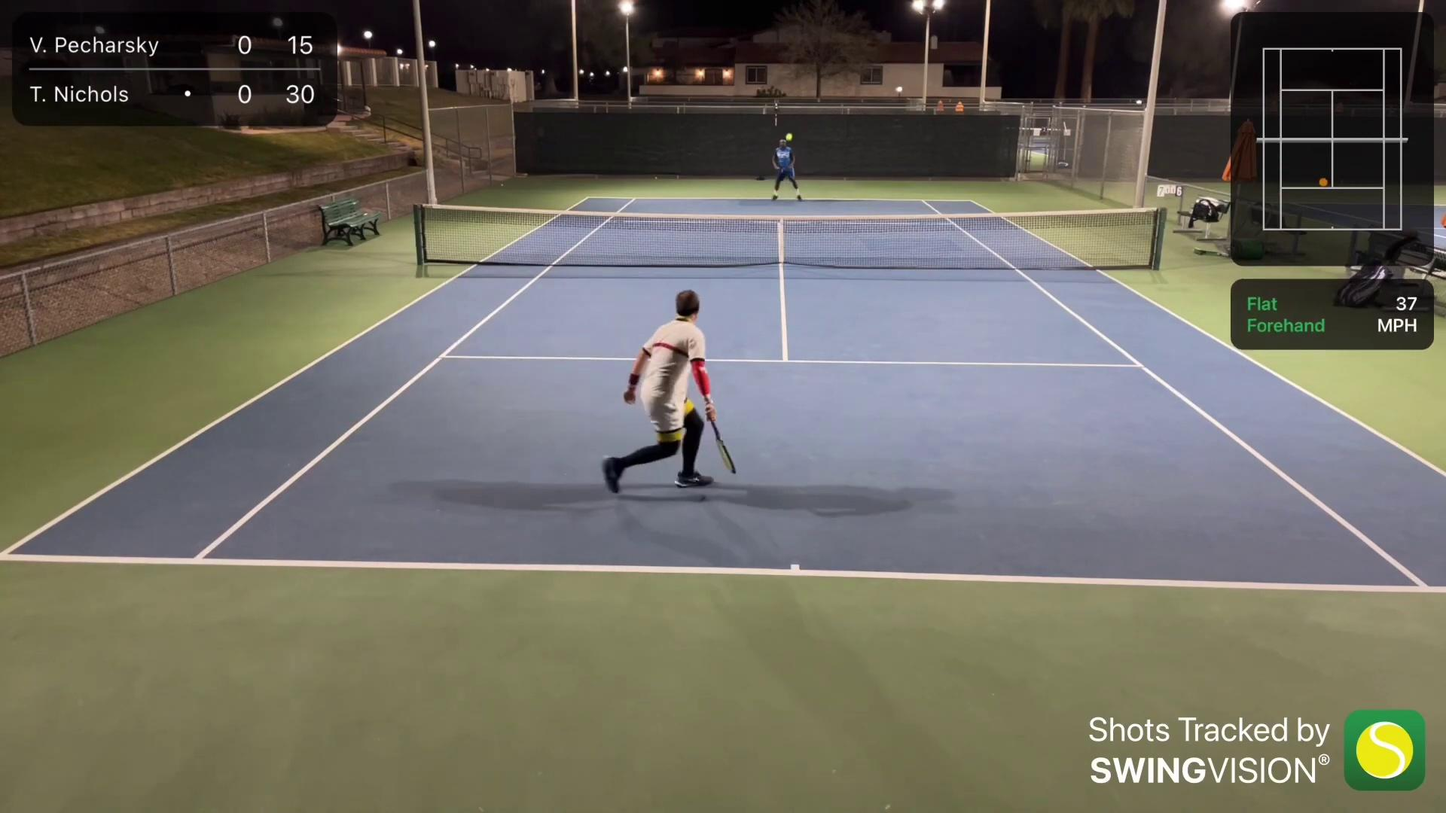ball: (785, 133, 793, 140)
